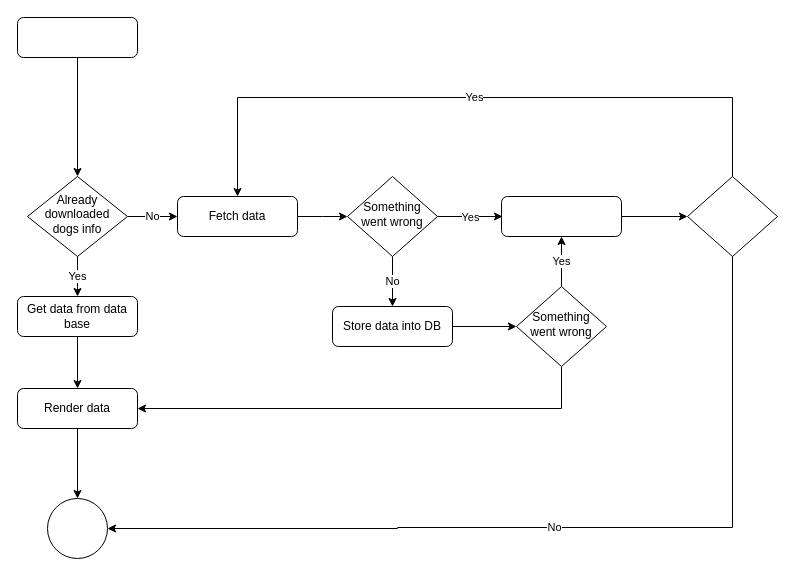
The diagram is 795 pixels wide and 576 high, and some of its shapes have lost their labels. Each missing label, with the centre of its shape:
Application starts: (77,37)
Display retry button: (561,216)
FINISH: (77,528)
User clicked retry button: (732,216)
